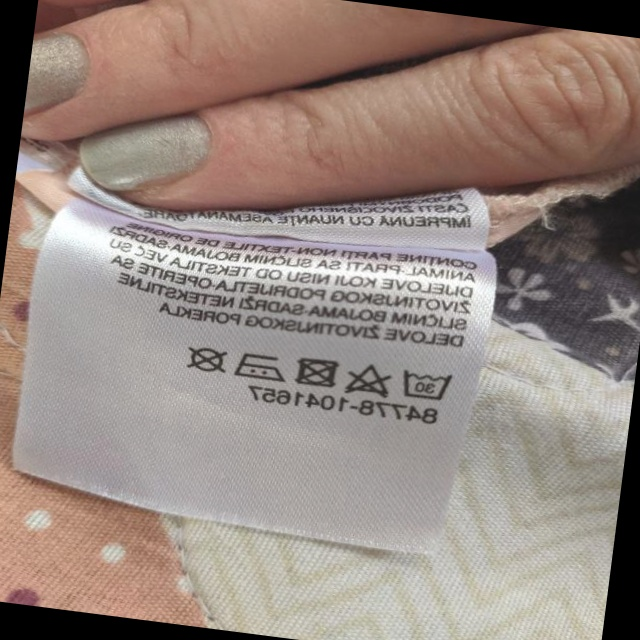30C: (395, 362, 455, 405)
DN_bleach: (345, 358, 393, 401)
DN_dry_clean: (182, 343, 231, 377)
DN_tumble_dry: (291, 353, 342, 394)
iron_medium: (230, 346, 288, 384)
